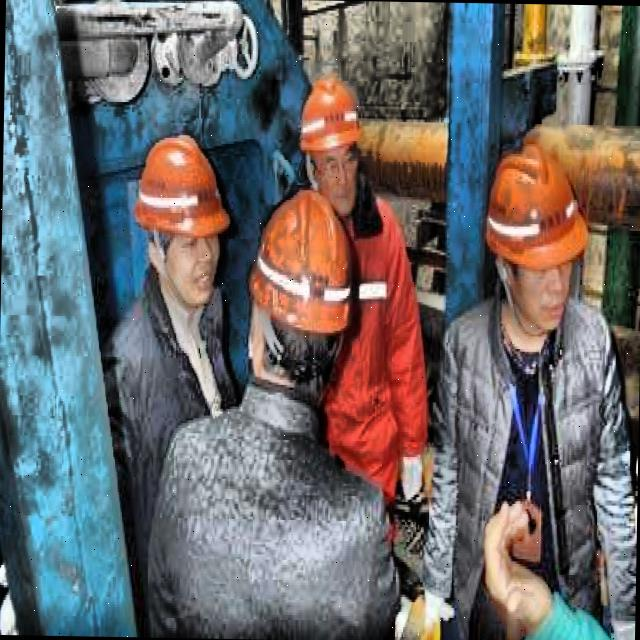helmet: (234, 204, 364, 410), (478, 143, 592, 334), (132, 126, 236, 304), (298, 74, 362, 204)
